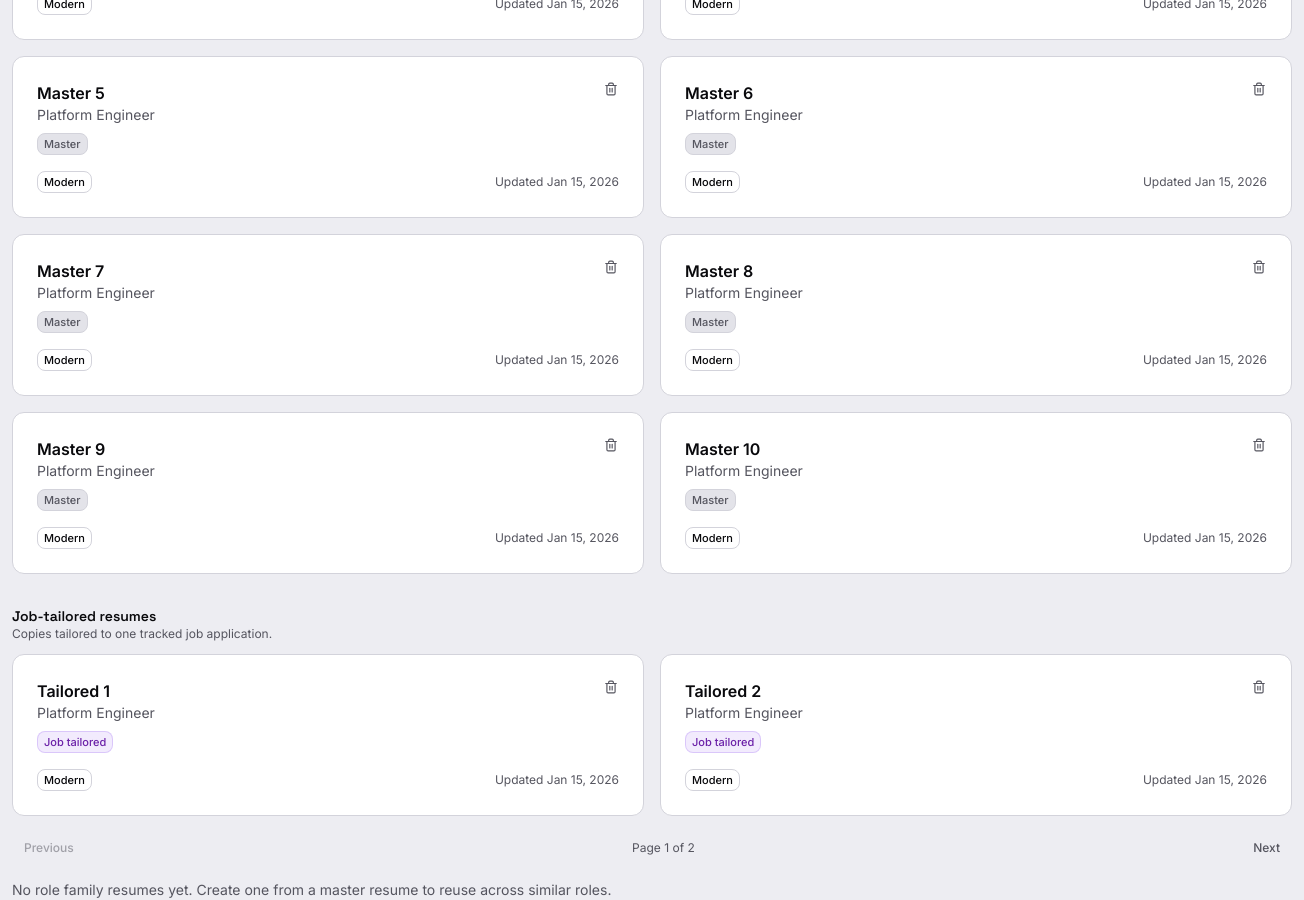
ResumeBrowser grouping › under All, heads only the variants on the current page, in tier order
(page scrolled)
Click the button "Next" at (1267, 848), box [1241,832,1292,864]
(page scrolled)
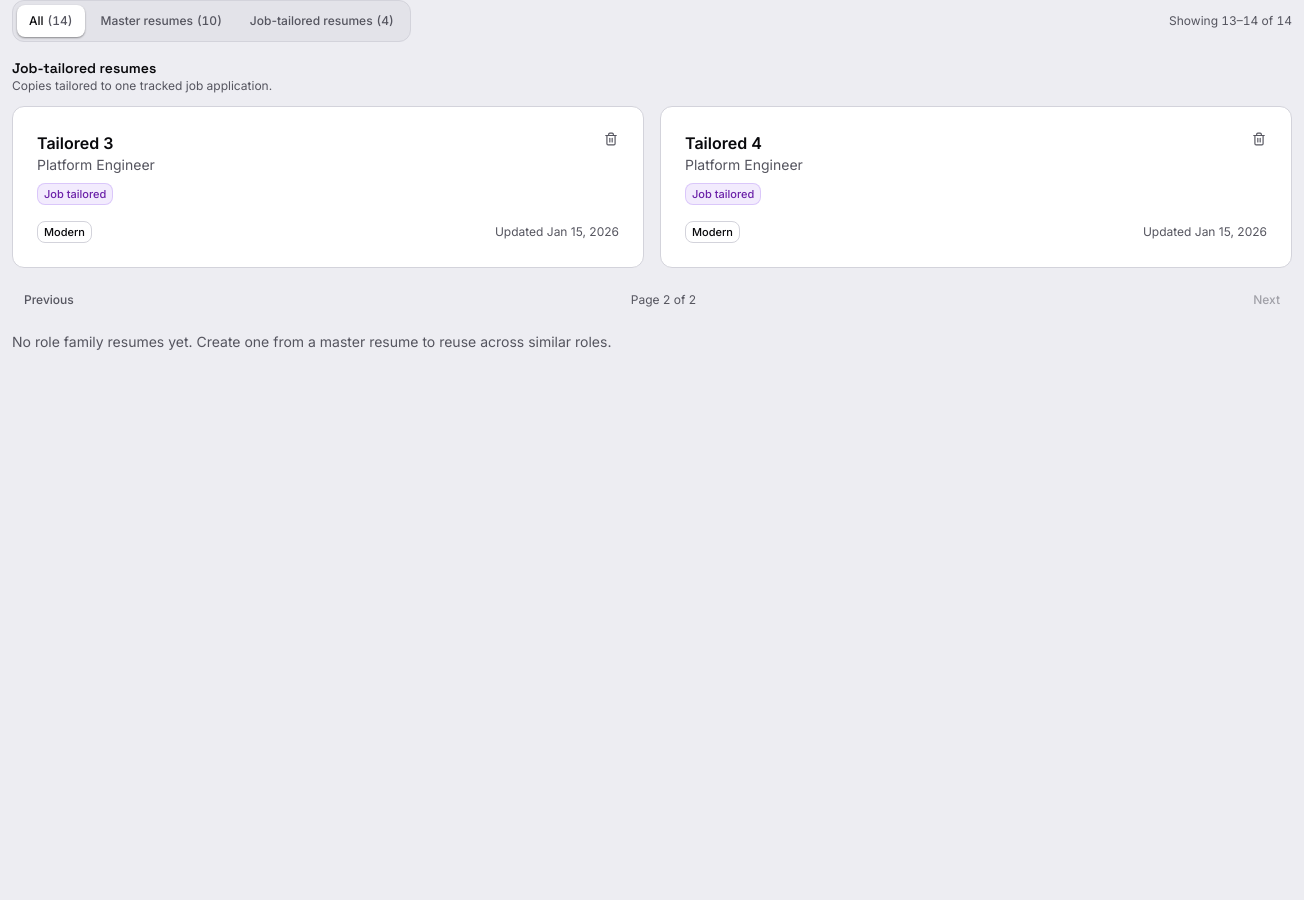
Expected: the heading "Job-tailored resumes" is shown, [12,59,156,77]
Expected: the text "Showing 13–14 of 14" is shown, [1169,13,1292,29]
